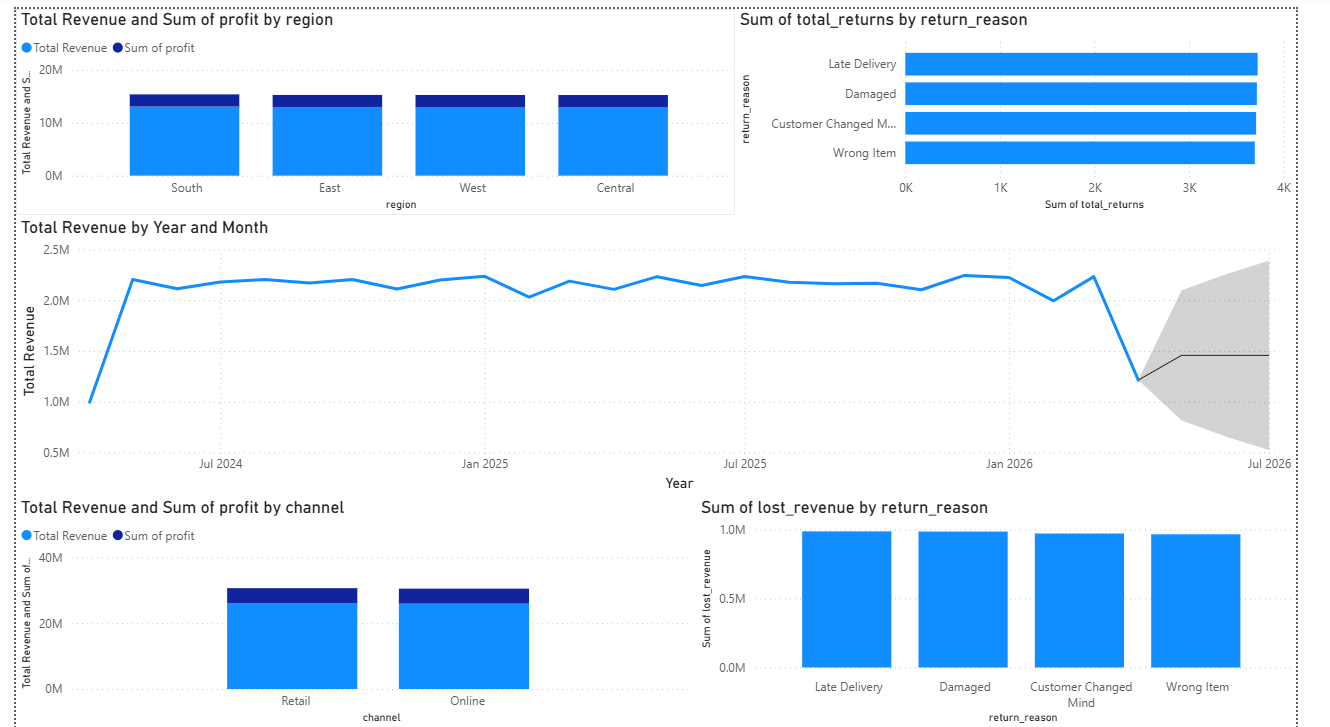

The dashboard page shown, as its layout file describes it:
{"tool":"tableau","page":{"name":"SALES PERFORMANCE","canvas":[1000,1000],"units":"permille","ordinal":3},"visuals":[{"type":"worksheet","title":"Sheet 16","mark":"Bar","rows":["profit","sales"],"cols":["region"],"box":[4.8,10,455.3,388.3]},{"type":"worksheet","title":"Sheet 24","mark":"Automatic","rows":["order_id"],"cols":["return_reason"],"box":[460.1,10,438.4,388.3]},{"type":"legend","title":"Sheet 17","param":"[federated.001l12v15upgfi11wvbyq09ii42s].[none:Forecast Indicator:nk]","box":[898.6,10,96.6,89.9]},{"type":"worksheet","title":"Sheet 17","mark":"Line","rows":["sales"],"cols":["order_date"],"box":[4.8,398.2,893.8,295.9]},{"type":"worksheet","title":"Sheet 18","mark":"Automatic","rows":["profit","sales"],"cols":["channel"],"box":[4.8,694.1,413.4,295.9]},{"type":"worksheet","title":"Sheet 25","mark":"Automatic","rows":["Calculation_0591328440557598"],"cols":["return_reason"],"box":[418.2,694.1,480.4,295.9]}]}

Visuals, with their boxes on the dashboard's canvas, which has no fixed pixel size, in thousandths of its width and height (x1, y1, x2, y2). These are canvas units, not pixel positions in the 1330x727 screenshot, which may show the page scaled, cropped or inside an application window:
"Sheet 16" worksheet (Bar marks): box=[5, 10, 460, 398]
"Sheet 24" worksheet: box=[460, 10, 898, 398]
"Sheet 17" legend: box=[899, 10, 995, 100]
"Sheet 17" worksheet (Line marks): box=[5, 398, 899, 694]
"Sheet 18" worksheet: box=[5, 694, 418, 990]
"Sheet 25" worksheet: box=[418, 694, 899, 990]
